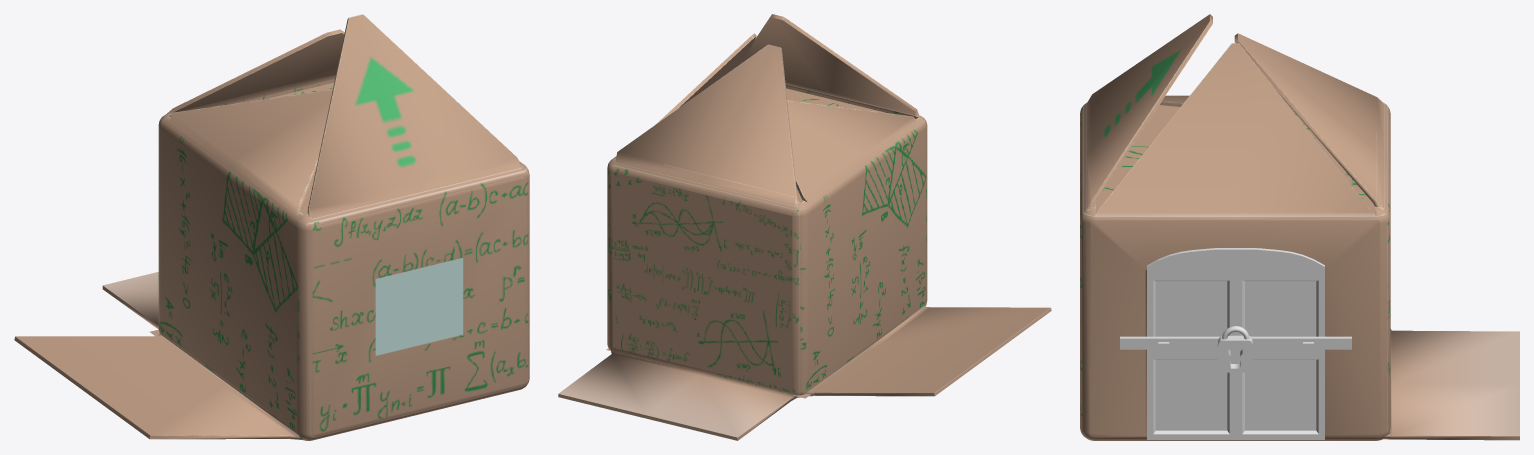
File: huidoos final Groen.fbx
The picture shows the model from 3 angles, left to right: view 1: azimuth 30°, elevation 25°; view 2: azimuth 150°, elevation 25°; view 3: azimuth 270°, elevation 25°; orthographic projection. The views are drawn at different scales.
Parts seen in each view (by area): view 1: Cube_4, Cube_2; view 2: Cube_2, Cube_4; view 3: Cube_2, Cube, Cube_4, Cube_1, Torus_1.
Boxes of the visible parts, x1,y1,x2,y2 form: Cube_4: (160, 129, 526, 436); Cube_2: (14, 14, 529, 440); Cube_2: (558, 14, 1051, 440); Cube_4: (808, 129, 925, 388); Cube_2: (1080, 14, 1519, 440); Cube: (1147, 248, 1324, 439); Cube_4: (1080, 111, 1379, 435); Cube_1: (1120, 336, 1351, 349); Torus_1: (1217, 326, 1253, 372).
Size of the model in its own units: 1122 by 969 by 1045.
1 material, 1 textured.
